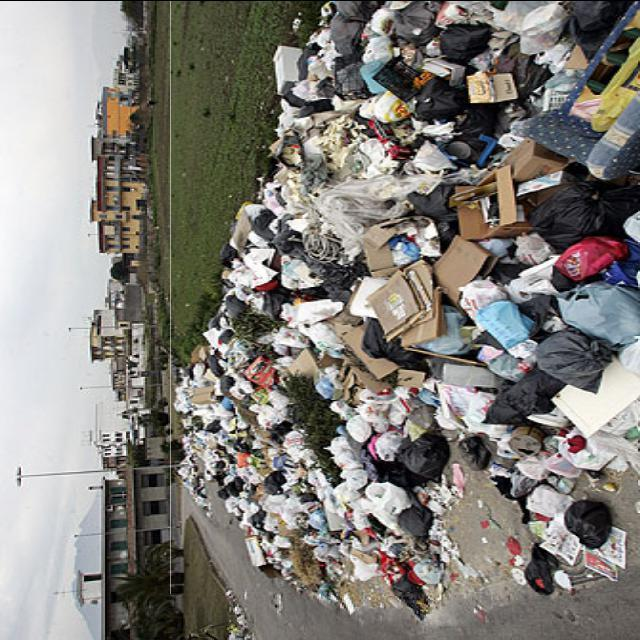Trashbag: (532, 178, 627, 246), (542, 330, 606, 396), (489, 370, 554, 433), (354, 326, 432, 374), (412, 76, 472, 121), (400, 432, 451, 479), (566, 499, 612, 549), (439, 22, 492, 64), (396, 503, 437, 540)
